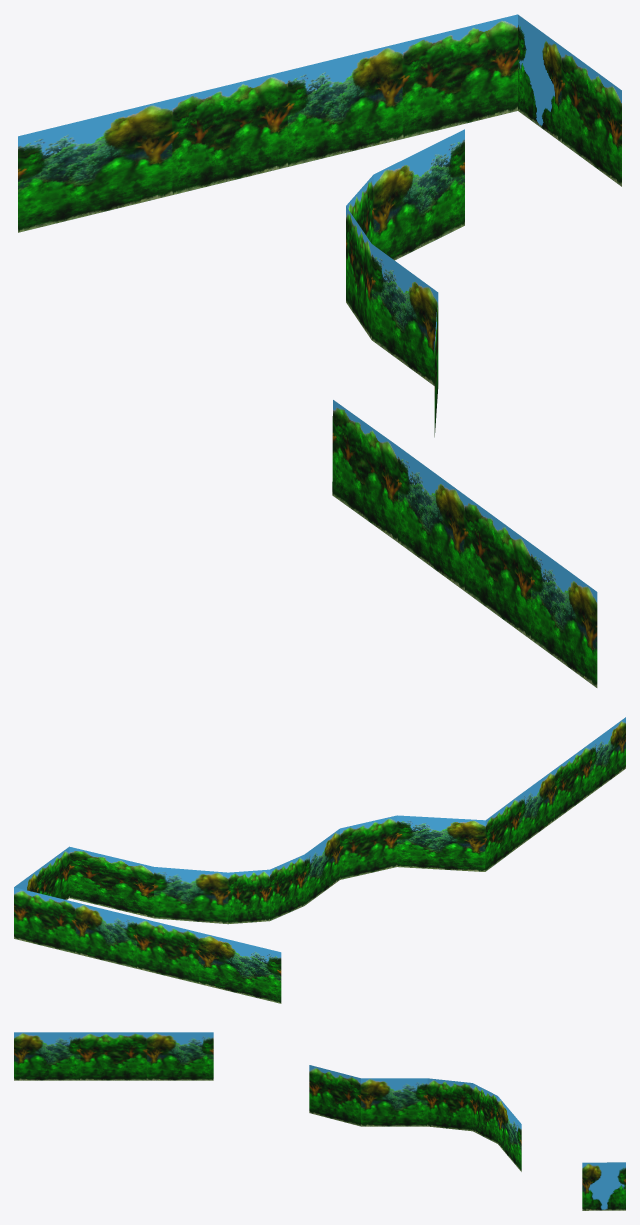
The model's file is 2D_Trees05.glb.
3 renders of one model, top to bottom at view 1: azimuth 30°, elevation 25°; view 2: azimuth 150°, elevation 25°; view 3: azimuth 270°, elevation 25°, orthographic. The views are drawn at different scales.
Parts seen in each view (by area): view 1: 2D_Trees05; view 2: 2D_Trees05; view 3: 2D_Trees05.
Part boxes in pixels (x1=…): 2D_Trees05: x1=18, y1=14, x2=621, y2=687; 2D_Trees05: x1=14, y1=717, x2=625, y2=1003; 2D_Trees05: x1=14, y1=1032, x2=625, y2=1210.
Bounding box in the file's own units: 10704 × 1858 × 21257.
Materials: 3 (3 with a texture image).
